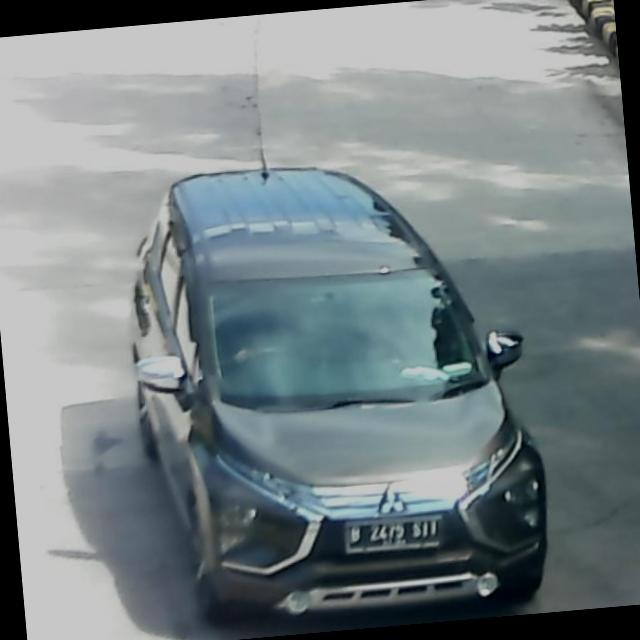plate: (341, 507, 444, 557)
